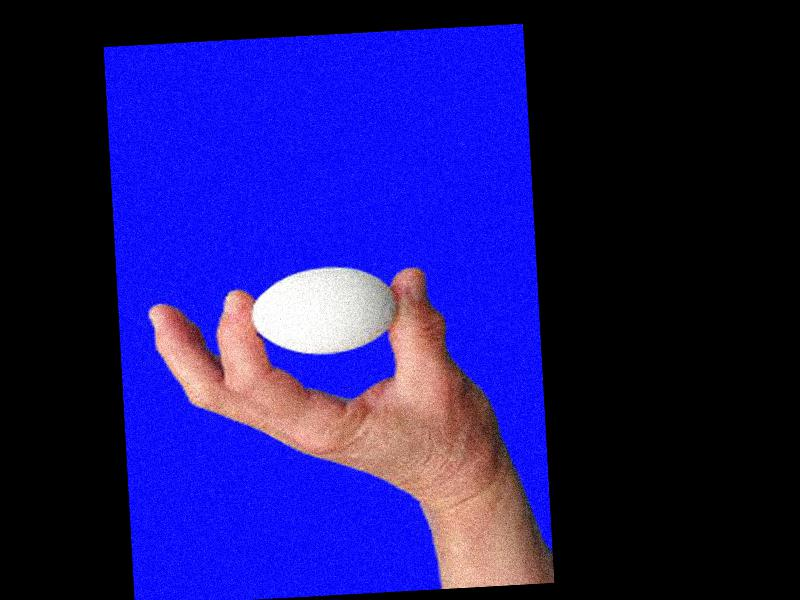Eggs: (246, 264, 398, 358)
